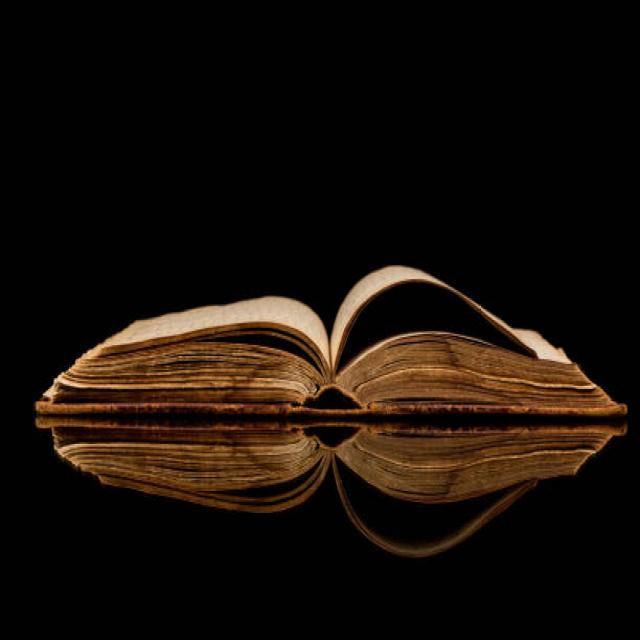electronic: (33, 262, 628, 557)
